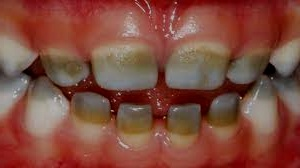Tooth Discoloration: (168, 48, 271, 91), (38, 44, 153, 75), (165, 102, 206, 137), (70, 89, 112, 121), (205, 95, 242, 126), (117, 104, 154, 134), (26, 79, 60, 102)
